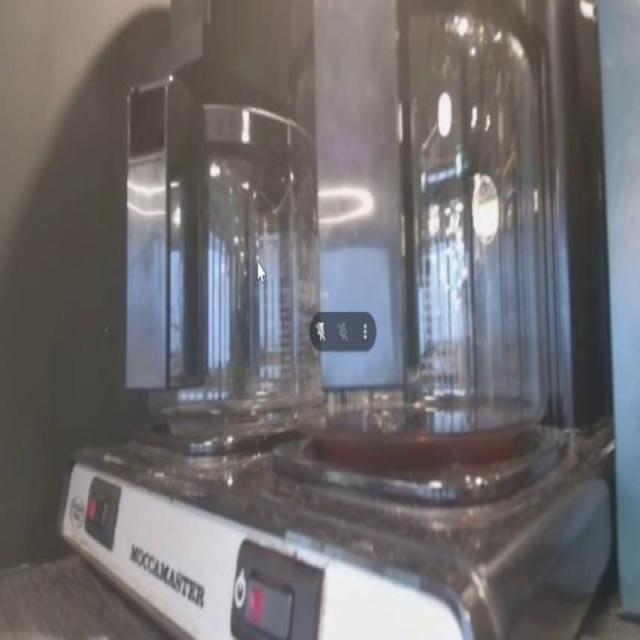nocoffee: (293, 54, 552, 478), (114, 121, 295, 458)
